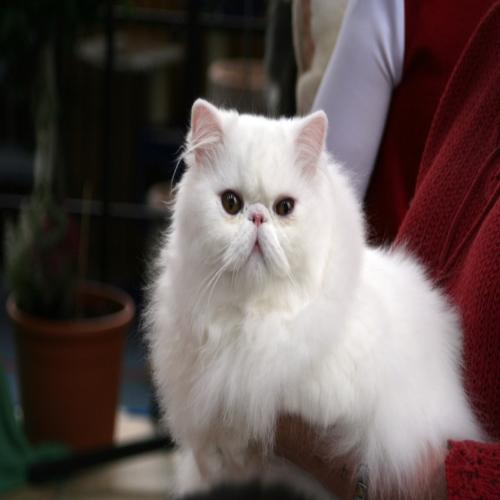persian: (168, 91, 345, 299)
